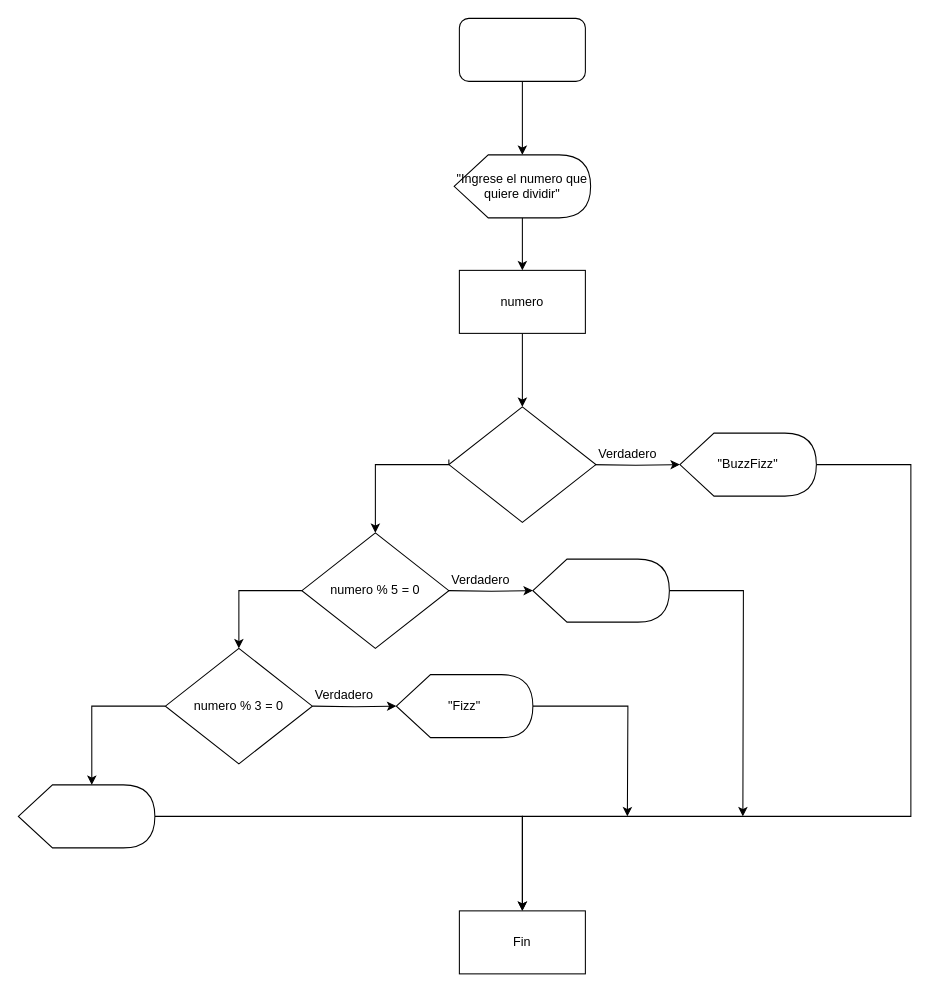
Image size: 938x992. Some labels were removed from this diagram. The centre of each missing label's shape, as x and y in pixels:
"Buzz": point 600,590
"Indivisible": point 86,816
Inicio: point 521,49
numero % 3 = 0 & numero % 5 = 0: point 522,464
